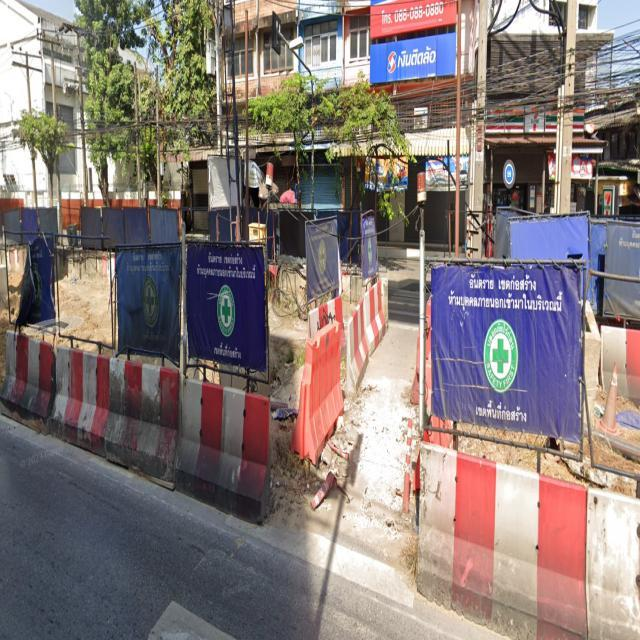fallen_object: (414, 421, 640, 640), (153, 359, 280, 516), (272, 330, 361, 475), (92, 353, 176, 484), (300, 282, 409, 376), (40, 330, 118, 456), (0, 323, 65, 434)
